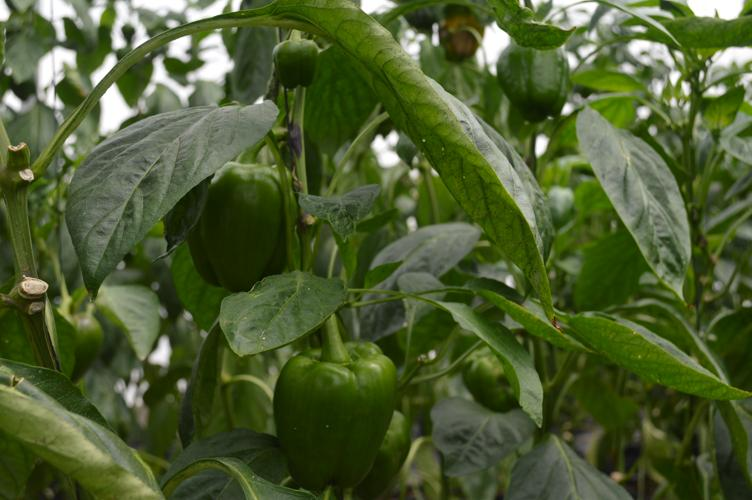BellPepper: (271, 347, 398, 483), (183, 161, 290, 287), (492, 44, 565, 116), (466, 355, 528, 415), (267, 44, 313, 82)
